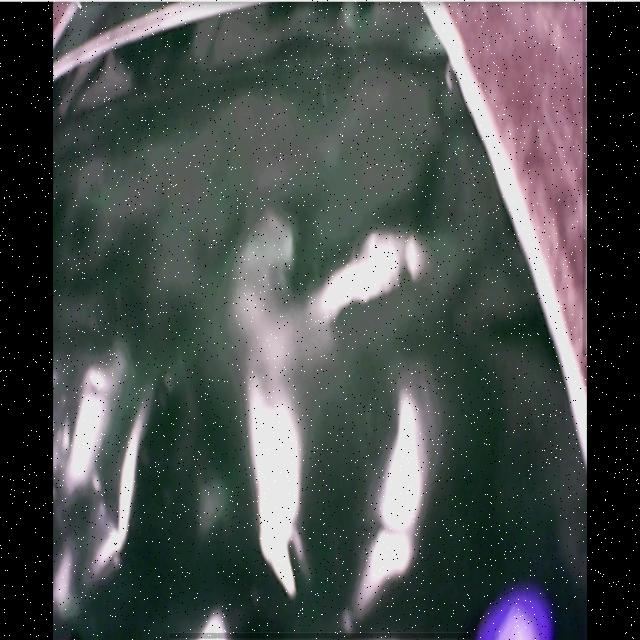ball: (477, 595, 551, 640)
